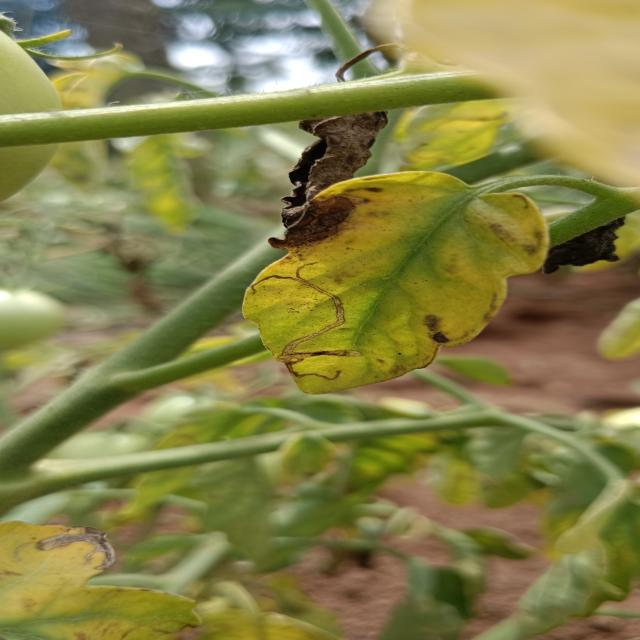tomato_early blight: (244, 170, 547, 398), (0, 517, 206, 640)
